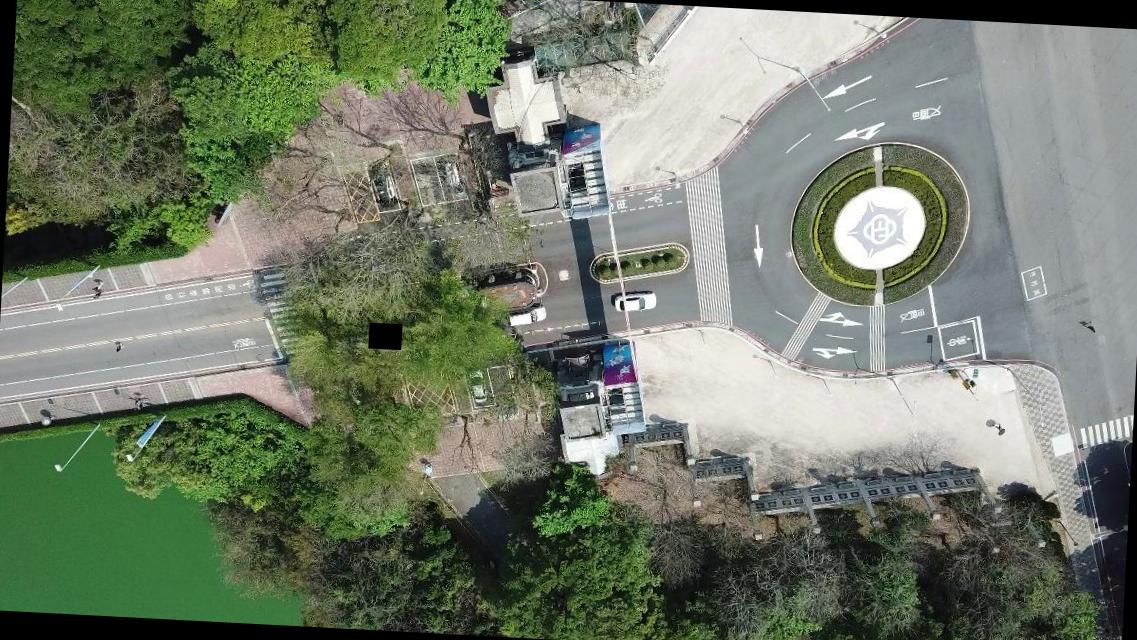vehicle: (368, 164, 398, 210), (439, 158, 469, 202), (612, 290, 657, 314), (506, 303, 546, 329), (466, 369, 488, 406)
